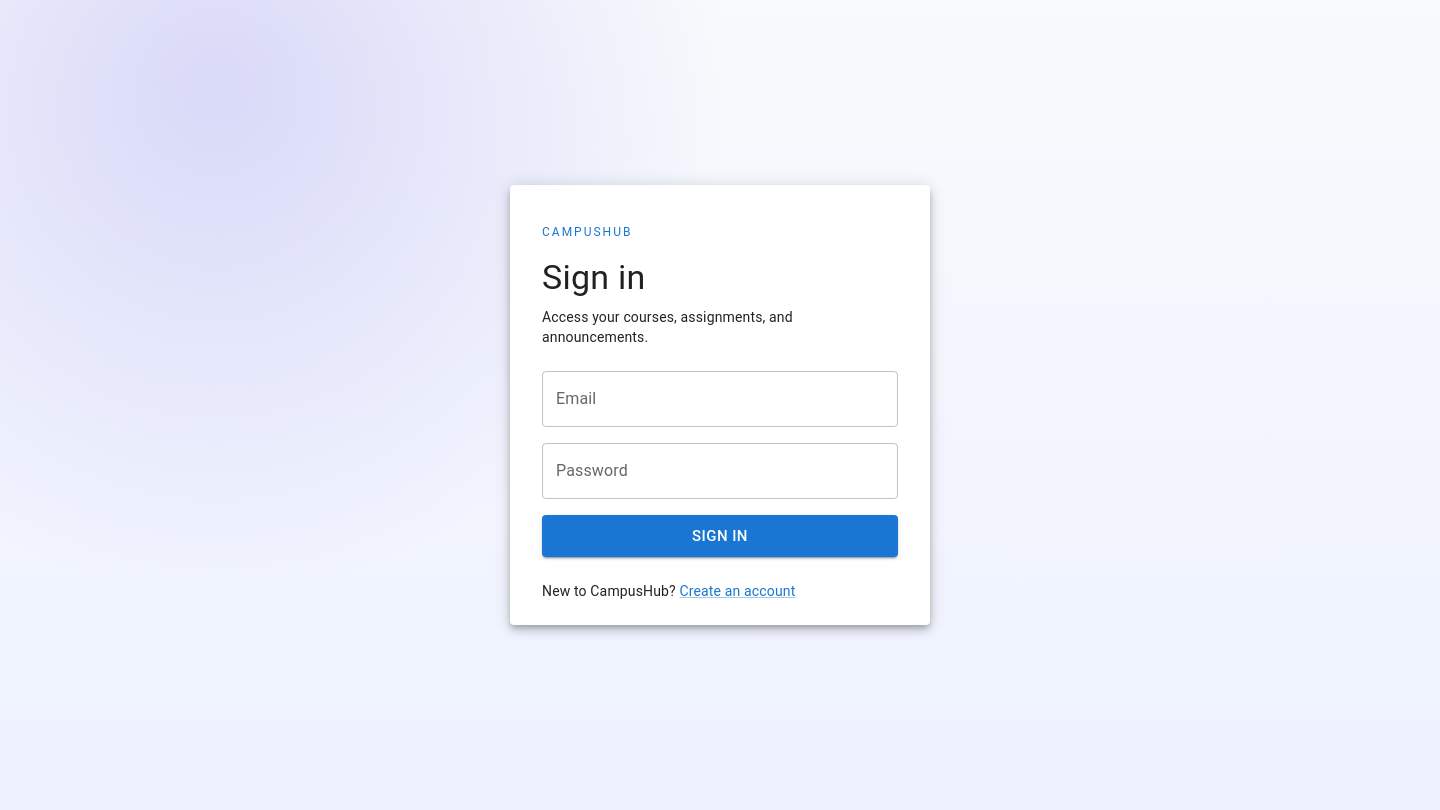
Test: authentication role switching › switches from student to instructor without hitting /forbidden
Type "priya.patel@campushub.local" into the field labelled "Email" at (720, 399), box 542,371 -> 898,427
Type "DemoPass123!" into the password field labelled "Password" at (720, 471), box 542,443 -> 898,499
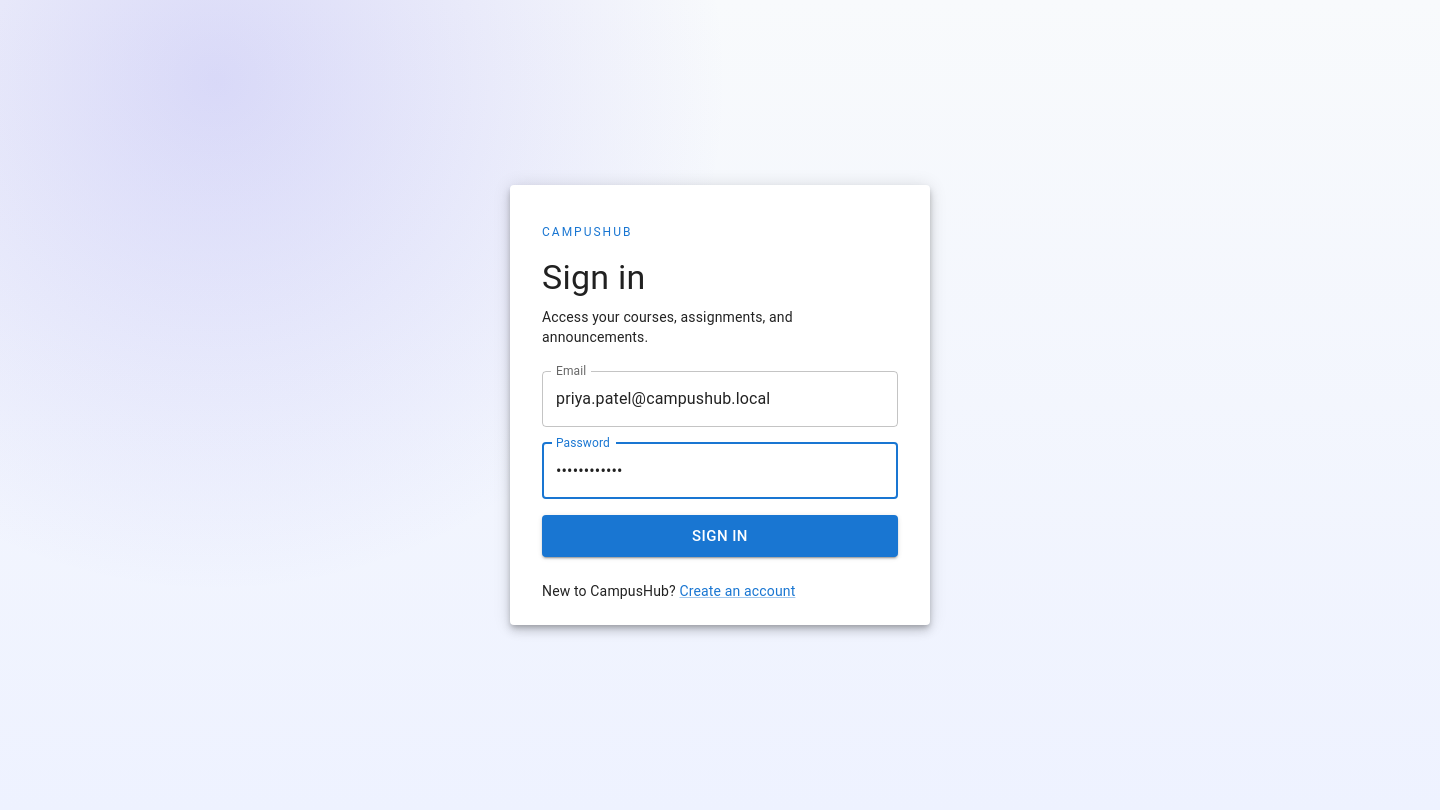
Click the button "Sign in" at (720, 536), box 542,515 -> 898,557
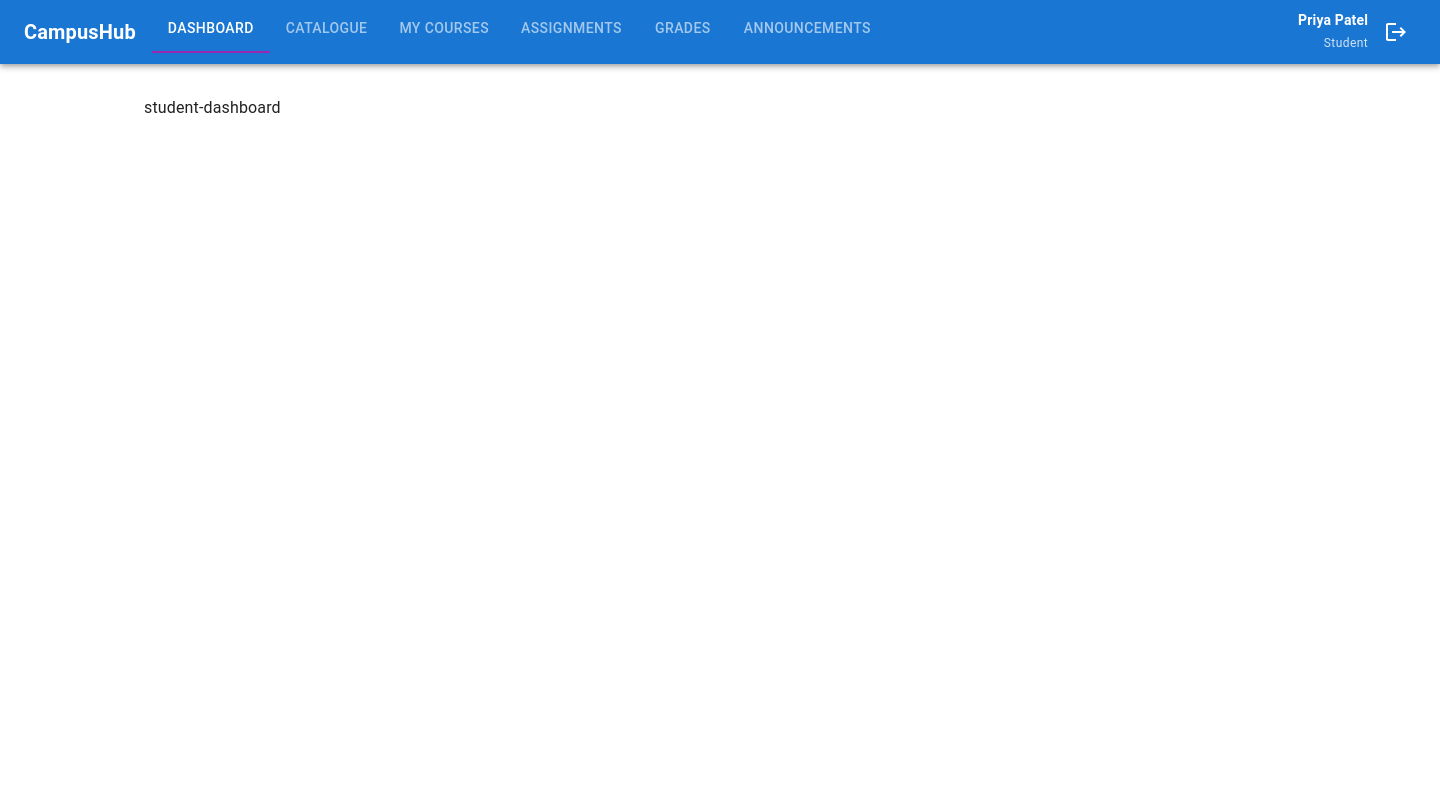
expect the text "student-dashboard" is shown: met, box 144,98 -> 281,117
Click the button named "Sign out" at (1396, 32), box 1376,12 -> 1416,52
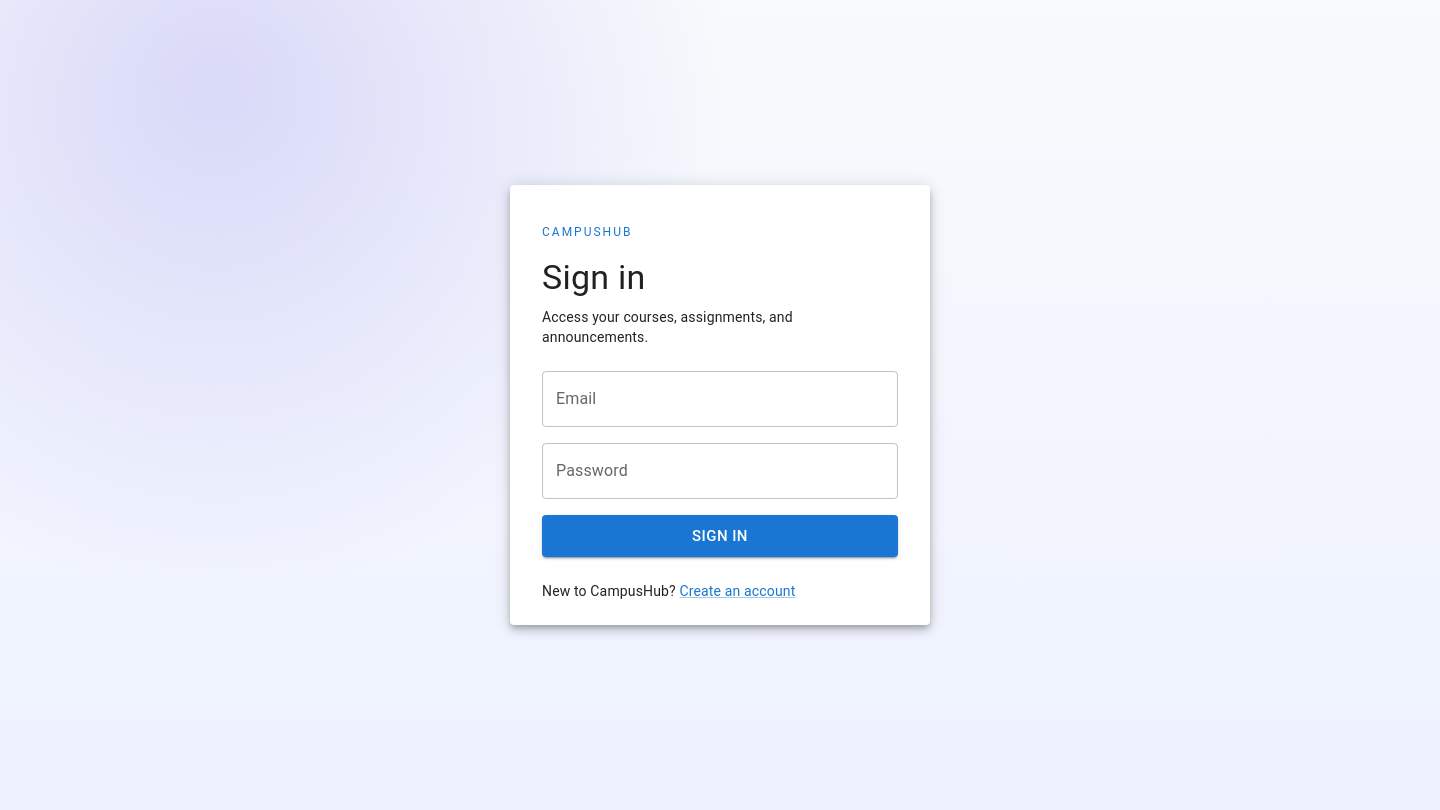
Type "maya.chen@campushub.local" into the field labelled "Email" at (720, 399), box 542,371 -> 898,427
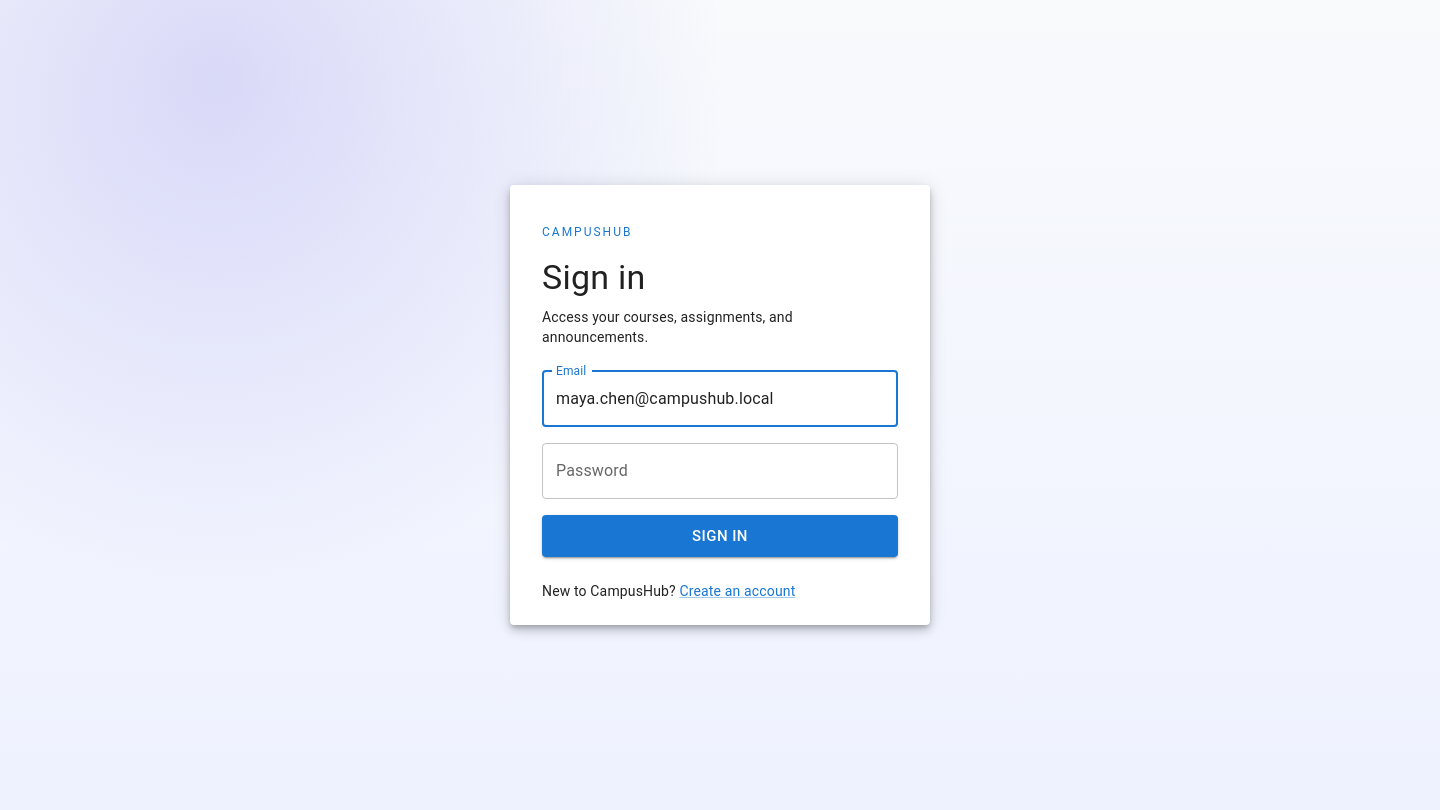
Type "DemoPass123!" into the password field labelled "Password" at (720, 471), box 542,443 -> 898,499
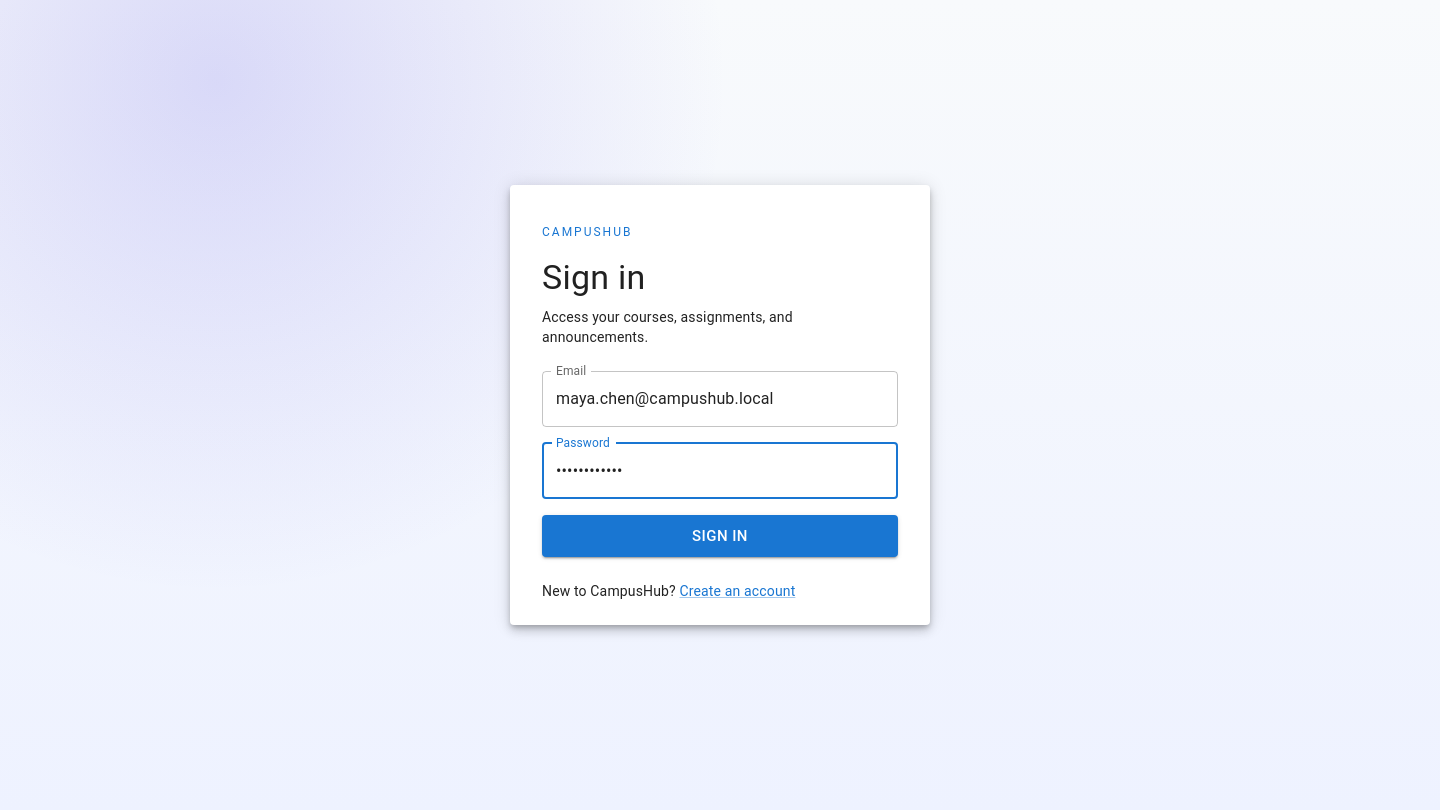
Click the button "Sign in" at (720, 536), box 542,515 -> 898,557
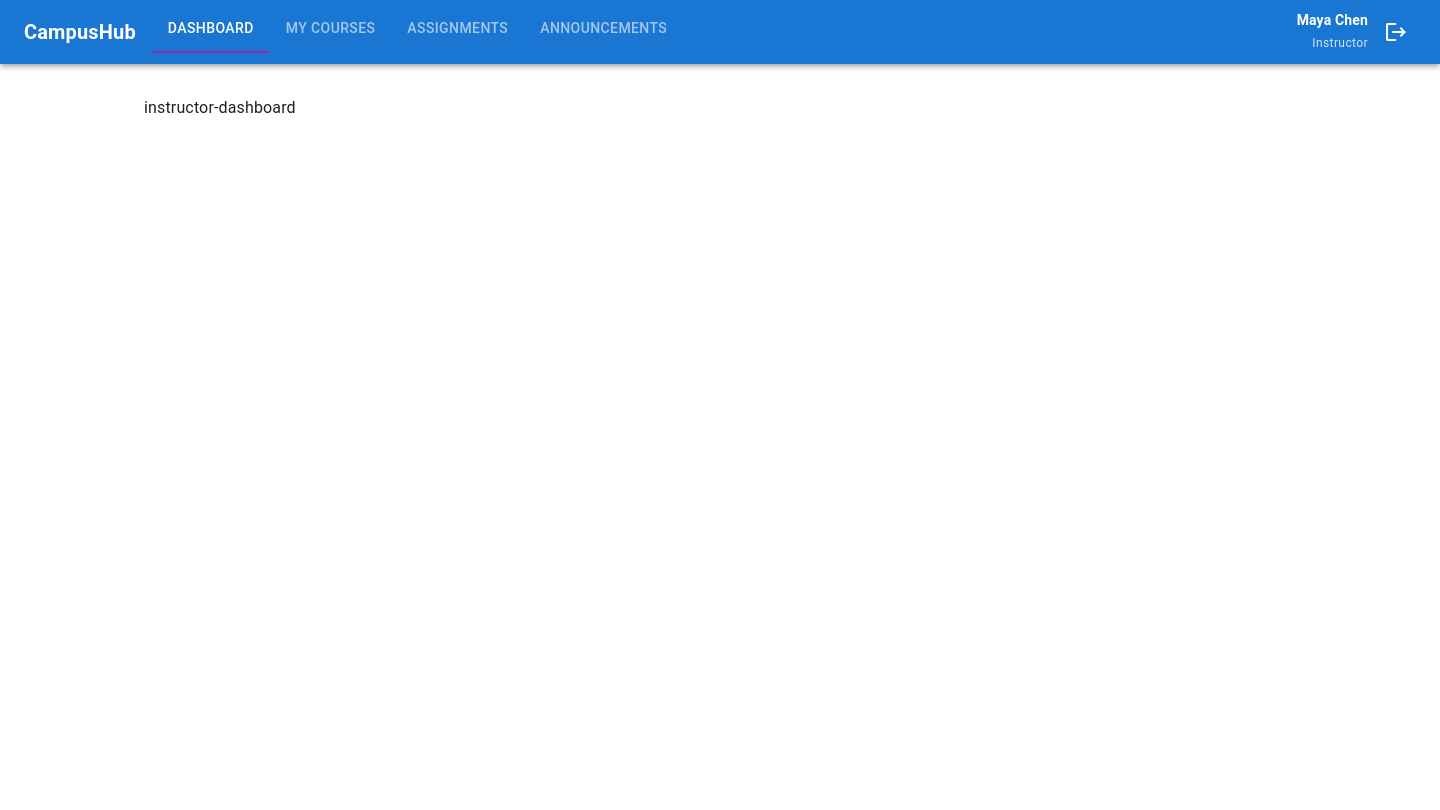
expect the text "instructor-dashboard" is shown: met, box 144,98 -> 296,117
